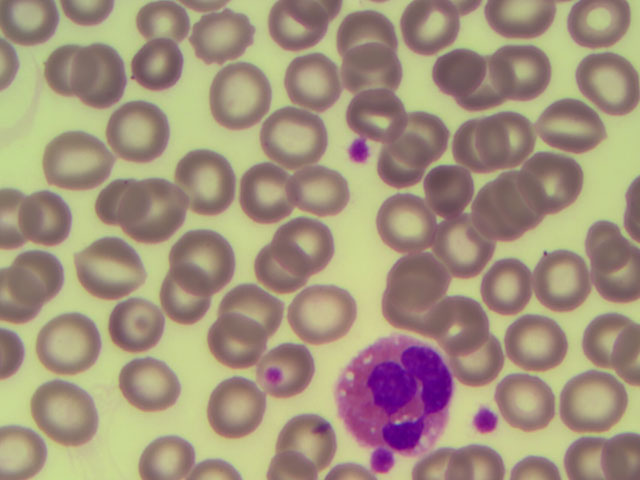Platelets: (348, 134, 371, 163), (475, 407, 498, 430), (372, 448, 391, 469)
RBC: (208, 61, 270, 131), (73, 40, 135, 110), (40, 40, 102, 110), (102, 96, 164, 166), (45, 121, 107, 191), (84, 162, 146, 232), (114, 171, 176, 241), (181, 149, 243, 219), (230, 154, 292, 224), (265, 97, 327, 167), (290, 157, 352, 227), (282, 46, 344, 116), (191, 5, 253, 75), (129, 40, 184, 92), (339, 44, 394, 96), (340, 11, 395, 63), (351, 84, 406, 136), (396, 106, 451, 158), (380, 133, 435, 185), (423, 46, 478, 98), (456, 55, 511, 107), (501, 36, 556, 88), (399, 2, 454, 54), (443, 112, 498, 164), (476, 111, 531, 163), (536, 102, 591, 154), (578, 51, 633, 103), (525, 156, 580, 208), (492, 172, 547, 224), (465, 187, 520, 239), (430, 163, 485, 215), (428, 215, 483, 267), (383, 191, 438, 243), (382, 246, 437, 298), (376, 284, 431, 336), (420, 283, 475, 335), (450, 326, 505, 378), (480, 258, 535, 310), (530, 254, 585, 306), (570, 221, 625, 273), (585, 257, 640, 309), (504, 312, 559, 364), (585, 300, 640, 352), (564, 377, 619, 429), (490, 369, 545, 421), (276, 414, 331, 466), (258, 345, 313, 397), (303, 283, 358, 335), (284, 218, 339, 270), (244, 240, 299, 292), (222, 281, 277, 333), (204, 314, 259, 366), (205, 381, 260, 433), (124, 363, 179, 415), (105, 298, 160, 350), (156, 277, 211, 329), (181, 225, 236, 277), (88, 239, 143, 291), (39, 323, 94, 375), (35, 389, 90, 441), (142, 428, 197, 480), (26, 195, 81, 247), (10, 249, 65, 301), (133, 1, 188, 52), (567, 1, 622, 52)
WBC: (340, 332, 444, 454)
